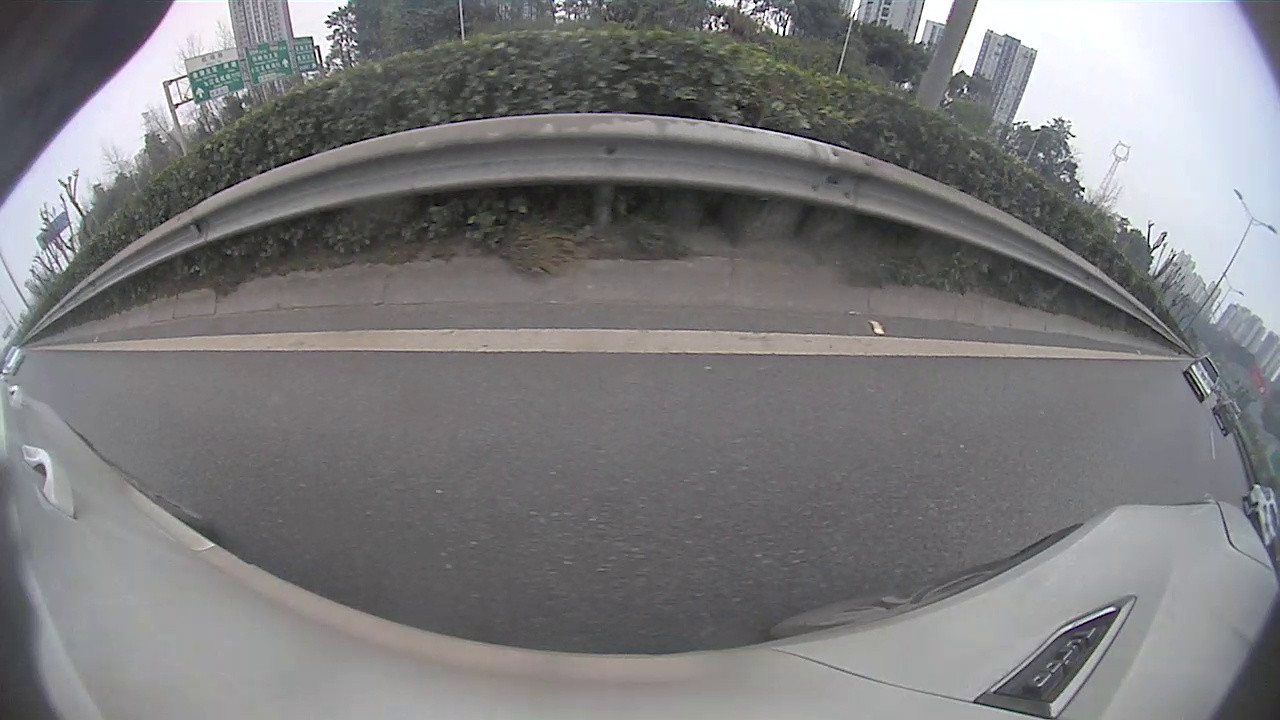car: (1243, 483, 1278, 545), (1184, 355, 1219, 402), (1212, 403, 1244, 436), (3, 346, 22, 373)
